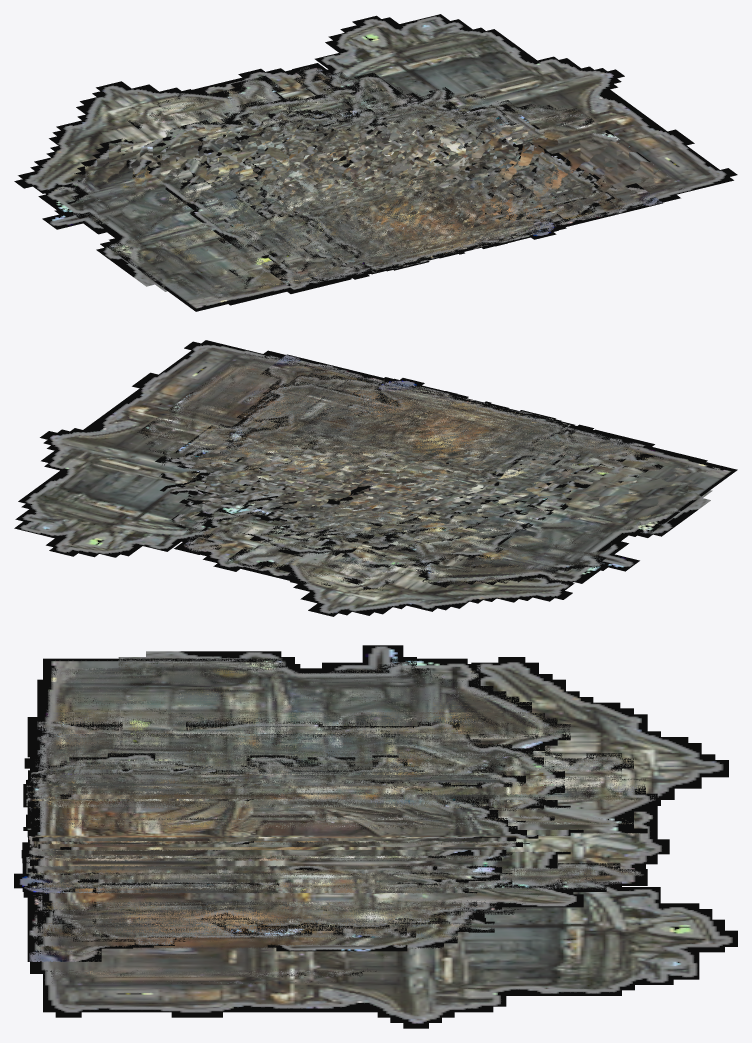
The model's file is buildings1.glb.
3 renders of one model, top to bottom at view 1: azimuth 30°, elevation 25°; view 2: azimuth 150°, elevation 25°; view 3: azimuth 270°, elevation 25°, orthographic. The views are drawn at different scales.
Visible parts, largest first — view 1: Grid.005, Grid.008, Grid.003, Grid, Grid.001, Grid.010, Grid.002, Grid.006, Grid.007, Grid.004; view 2: Grid.005, Grid.008, Grid, Grid.003, Grid.010, Grid.001, Grid.002, Grid.007, Grid.006, Grid.004; view 3: Grid.005, Grid.008, Grid.003, Grid.002, Grid.010, Grid, Grid.001, Grid.006, Grid.007, Grid.004.
Boxes of the visible parts, <box> form: Grid.005: <box>38,14,737,311</box>; Grid.008: <box>14,63,682,305</box>; Grid.003: <box>137,92,662,293</box>; Grid: <box>214,87,603,270</box>; Grid.001: <box>243,72,614,271</box>; Grid.010: <box>122,66,595,288</box>; Grid.002: <box>231,108,570,271</box>; Grid.006: <box>197,111,561,280</box>; Grid.007: <box>170,103,585,283</box>; Grid.004: <box>299,187,514,274</box>; Grid.005: <box>14,340,737,587</box>; Grid.008: <box>137,353,718,616</box>; Grid: <box>160,378,567,550</box>; Grid.003: <box>175,354,654,568</box>; Grid.010: <box>179,376,663,590</box>; Grid.001: <box>170,373,566,534</box>; Grid.002: <box>250,376,577,535</box>; Grid.007: <box>221,376,622,543</box>; Grid.006: <box>250,379,612,556</box>; Grid.004: <box>378,390,574,477</box>; Grid.005: <box>30,658,737,1028</box>; Grid.008: <box>23,645,728,983</box>; Grid.003: <box>27,717,564,961</box>; Grid.002: <box>21,753,526,903</box>; Grid.010: <box>24,697,669,924</box>; Grid: <box>14,755,538,951</box>; Grid.001: <box>32,756,583,945</box>; Grid.006: <box>22,742,525,894</box>; Grid.007: <box>26,722,518,906</box>; Grid.004: <box>23,762,258,865</box>.
Size of the model in its own units: 12.2 by 0 by 9.74.
1 material, 1 textured.
